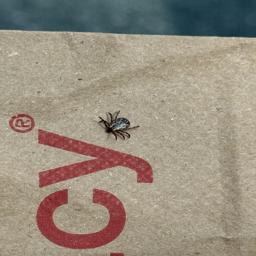Dermacentor variabilis: (96, 110, 142, 142)
